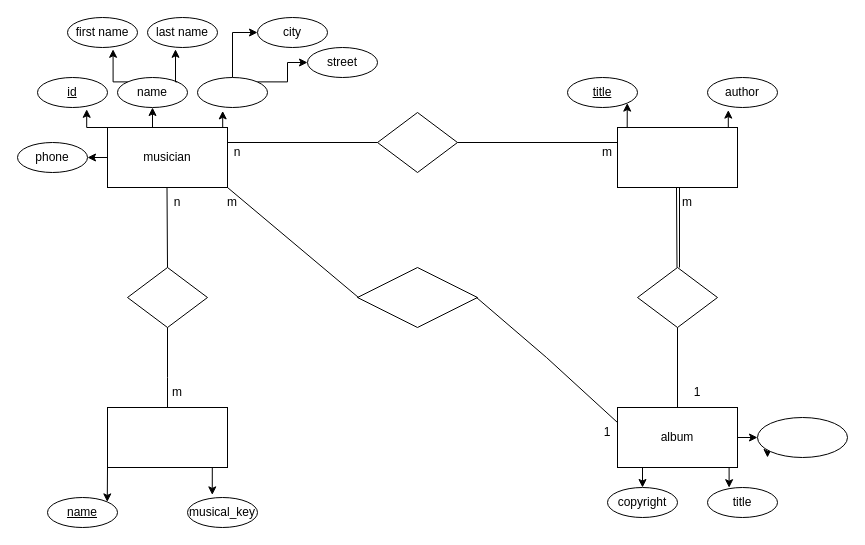
The diagram is 865 pixels wide and 545 high, and some of its shapes have lost their labels. The centre of each missing label's shape, as x and y in pixels:
"address" belongs at (232,92).
"album_identifier" belongs at (802,437).
"contains" belongs at (677,297).
"instrument" belongs at (167,437).
"performs" belongs at (417,142).
"play" belongs at (167,297).
"producer" belongs at (417,297).
"song" belongs at (677,157).
